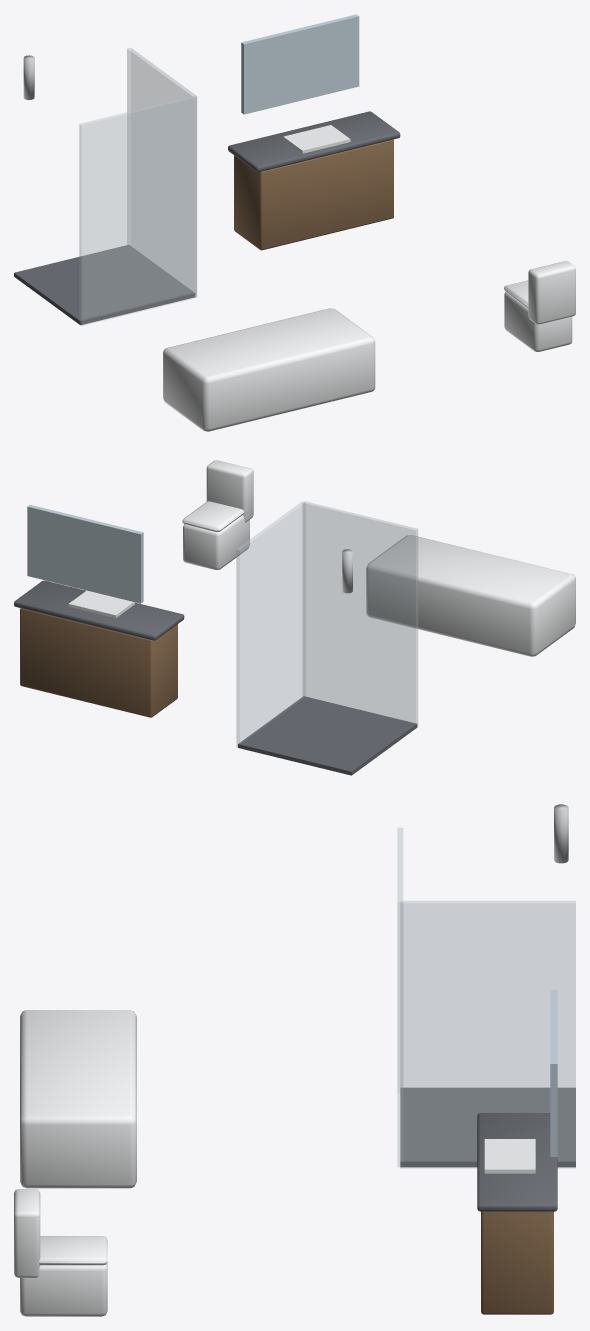
File: bathroom.glb
3 renders of one model, top to bottom at view 1: azimuth 30°, elevation 25°; view 2: azimuth 150°, elevation 25°; view 3: azimuth 270°, elevation 25°, orthographic. The views are drawn at different scales.
Parts seen in each view (by area): view 1: Bathroom; view 2: Bathroom; view 3: Bathroom.
Part boxes in pixels (x1,y1,x2,y2): Bathroom: (14,14,575,431); Bathroom: (14,460,575,775); Bathroom: (14,804,575,1316).
Bounding box in the file's own units: 3.86 × 2.2 × 3.84.
